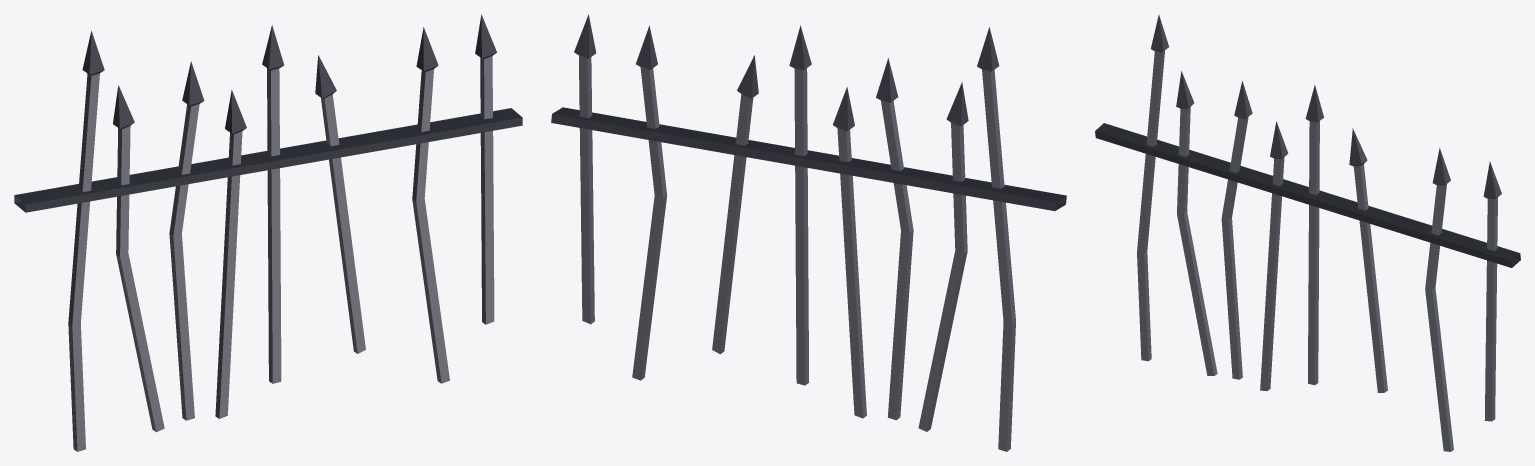
File: HWN20_IronfFence_04.glb
The picture shows the model from 3 angles, left to right: view 1: azimuth 30°, elevation 25°; view 2: azimuth 150°, elevation 25°; view 3: azimuth 330°, elevation 25°; orthographic projection. The views are drawn at different scales.
Visible parts, largest first — view 1: HWN20_IronfFence_04; view 2: HWN20_IronfFence_04; view 3: HWN20_IronfFence_04.
Part boxes in pixels (x1,y1,x2,y2): HWN20_IronfFence_04: (14, 14, 522, 451); HWN20_IronfFence_04: (551, 14, 1066, 451); HWN20_IronfFence_04: (1095, 14, 1520, 451).
Size of what is drawn, in the model's own units: 4.02 by 3.35 by 0.1608.
1 material, 1 textured.
